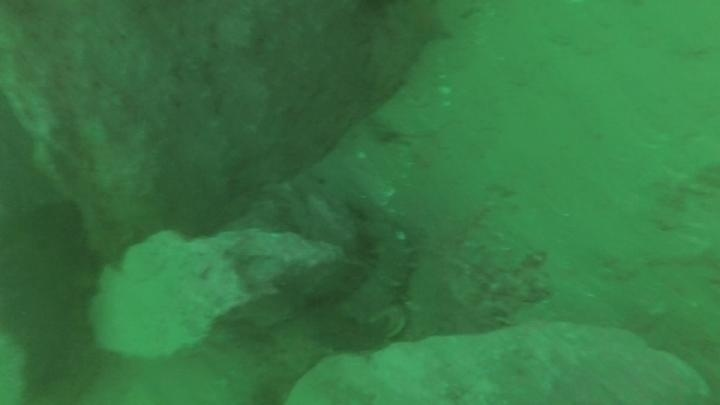holothurian: (342, 220, 419, 321)
starfish: (386, 2, 457, 54)
